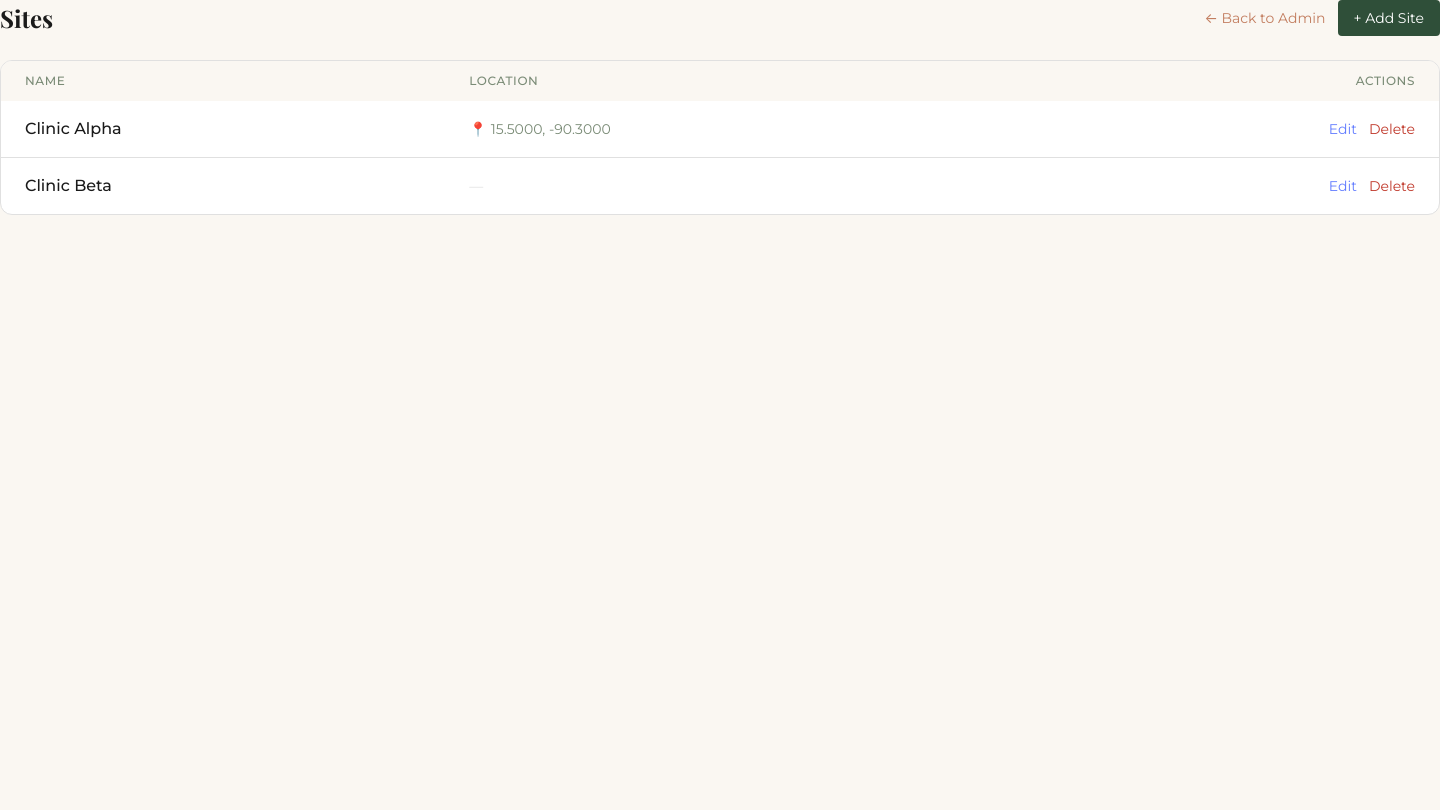
Test case: AdminSitesPage › delete confirmation › deletes the site when confirmed
Check: the text "Clinic Beta" is shown, box top-left (1, 158), bottom-right (445, 214)
Click the button "Delete" in the row of "Clinic Beta" at (1392, 186), box top-left (1369, 176), bottom-right (1415, 196)
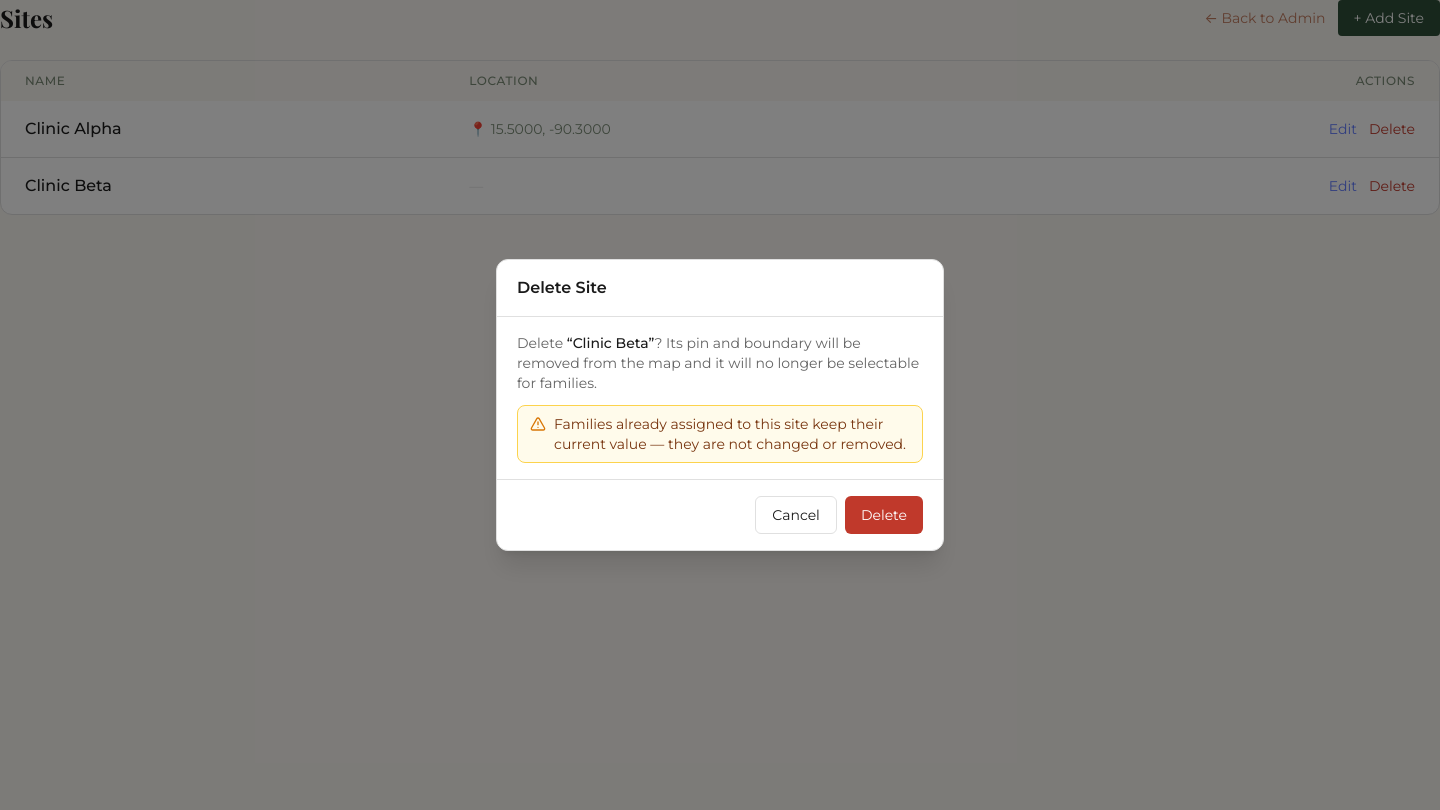
Click the button "Delete" at (884, 515), box top-left (845, 496), bottom-right (923, 534)
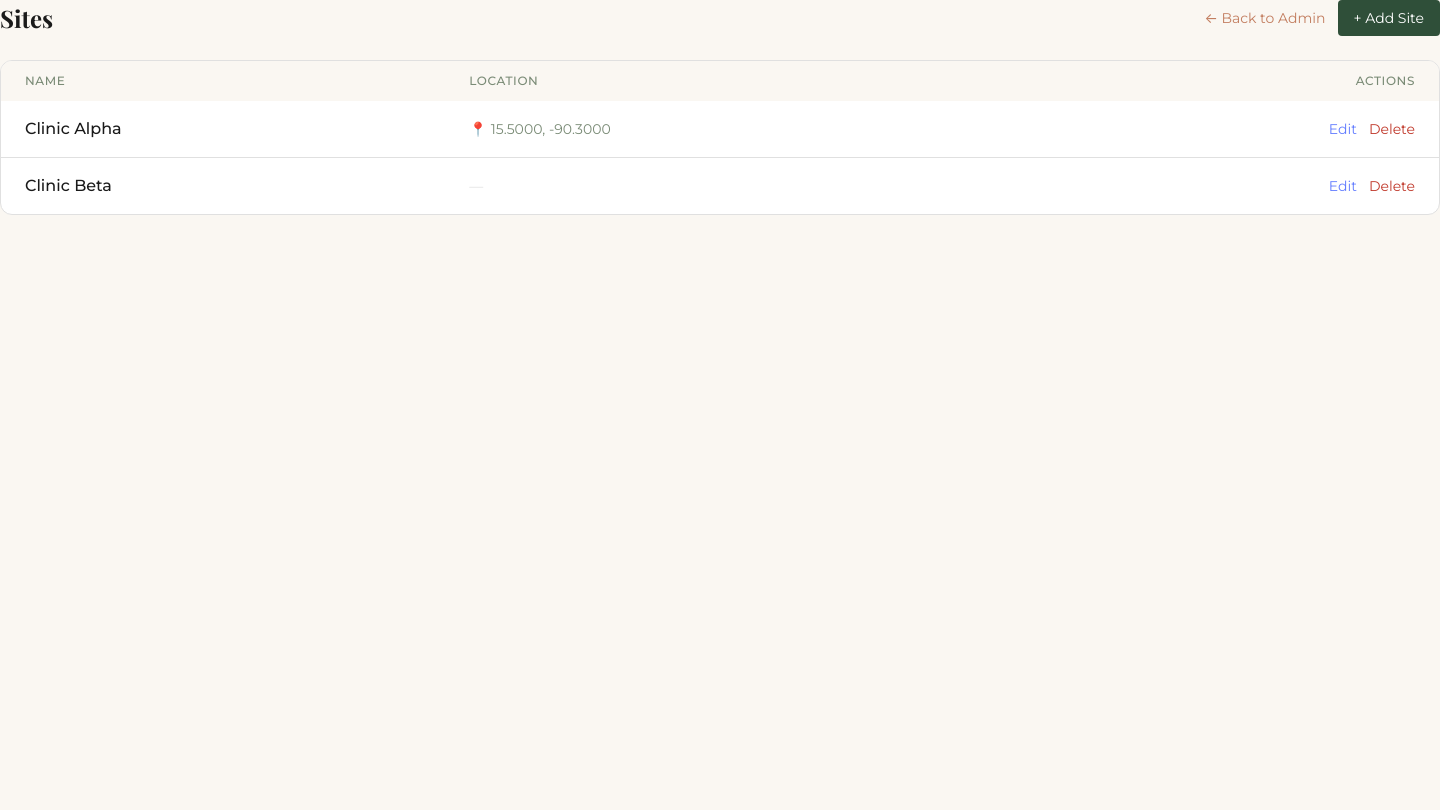
Check: the dialog is gone
